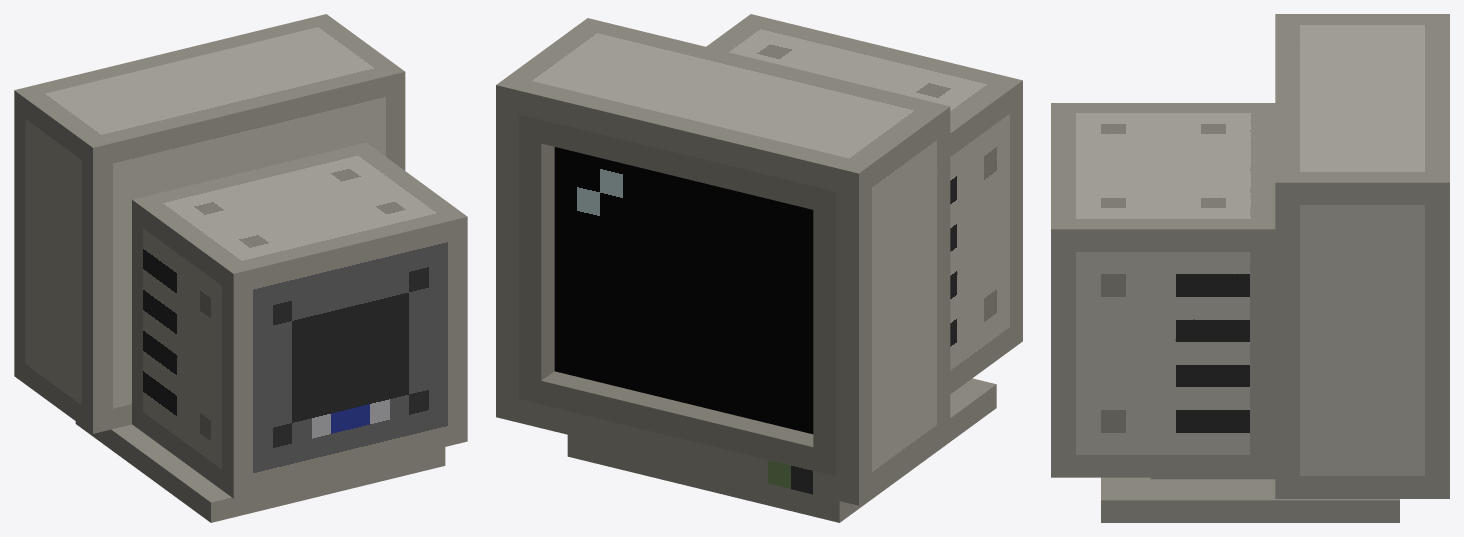
Rendered from crt_monitor.obj.
3 views of the same model, side by side, from view 1: azimuth 30°, elevation 25°; view 2: azimuth 150°, elevation 25°; view 3: azimuth 270°, elevation 25° (orthographic). The views are drawn at different scales.
Parts seen in each view (by area): view 1: cube; view 2: cube; view 3: cube.
Boxes of the visible parts, x1=… form: cube: x1=14, y1=14, x2=467, y2=522; cube: x1=496, y1=14, x2=1022, y2=522; cube: x1=1051, y1=14, x2=1449, y2=522.
Size of the model in its own units: 1 by 1 by 1.
